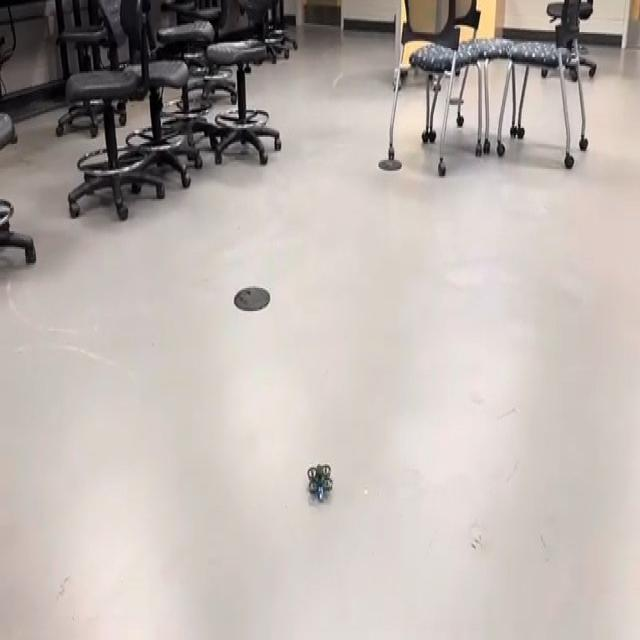drone: (301, 451, 339, 510)
